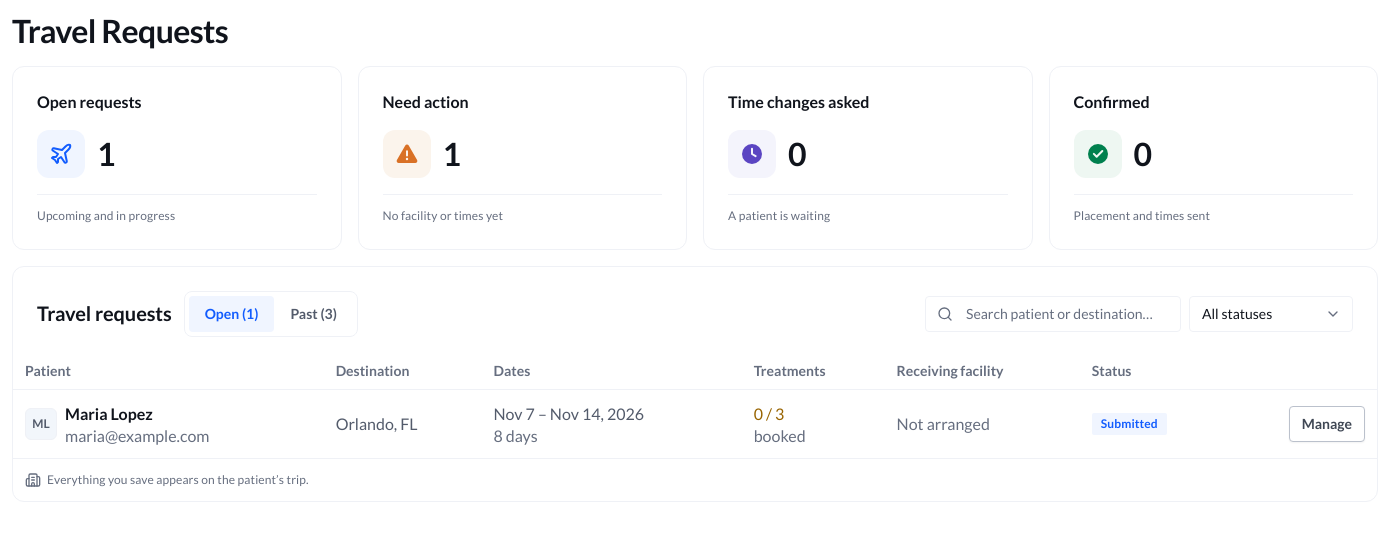
Travel Requests › finds a request by patient name
This screenshot has width=1378, height=536.
Type "nobody" into the search field named "Search travel requests". click: coordinates (1053, 314)
box: [925,296,1181,332]
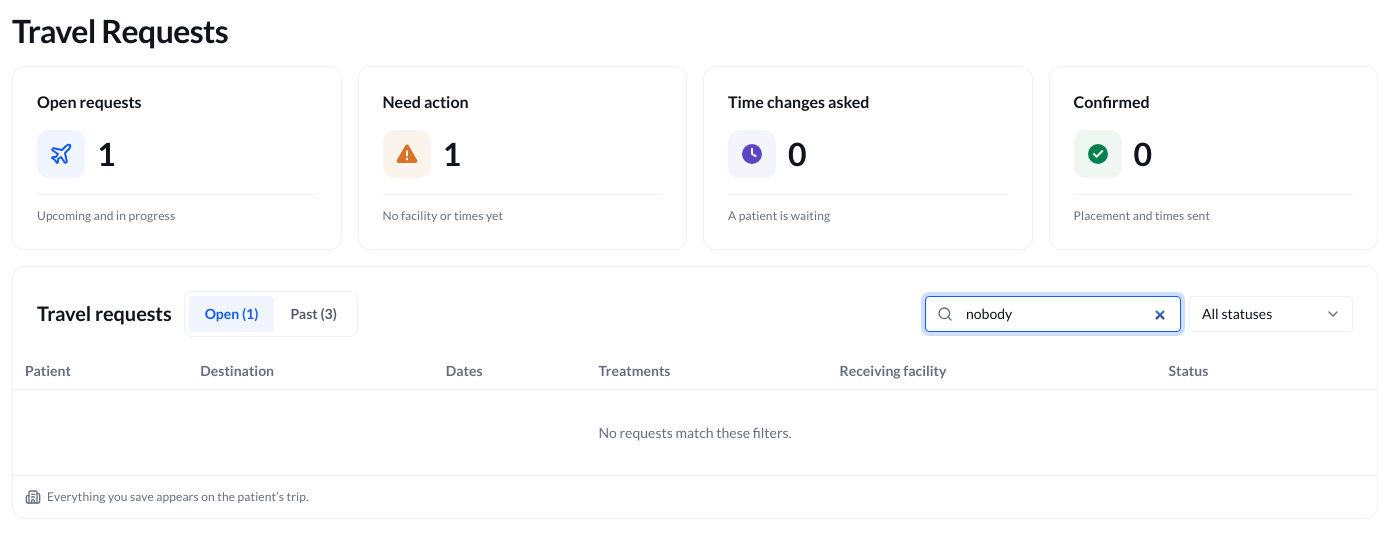
Now the text "No requests match these filters." is shown, box [598,424,792,441]
